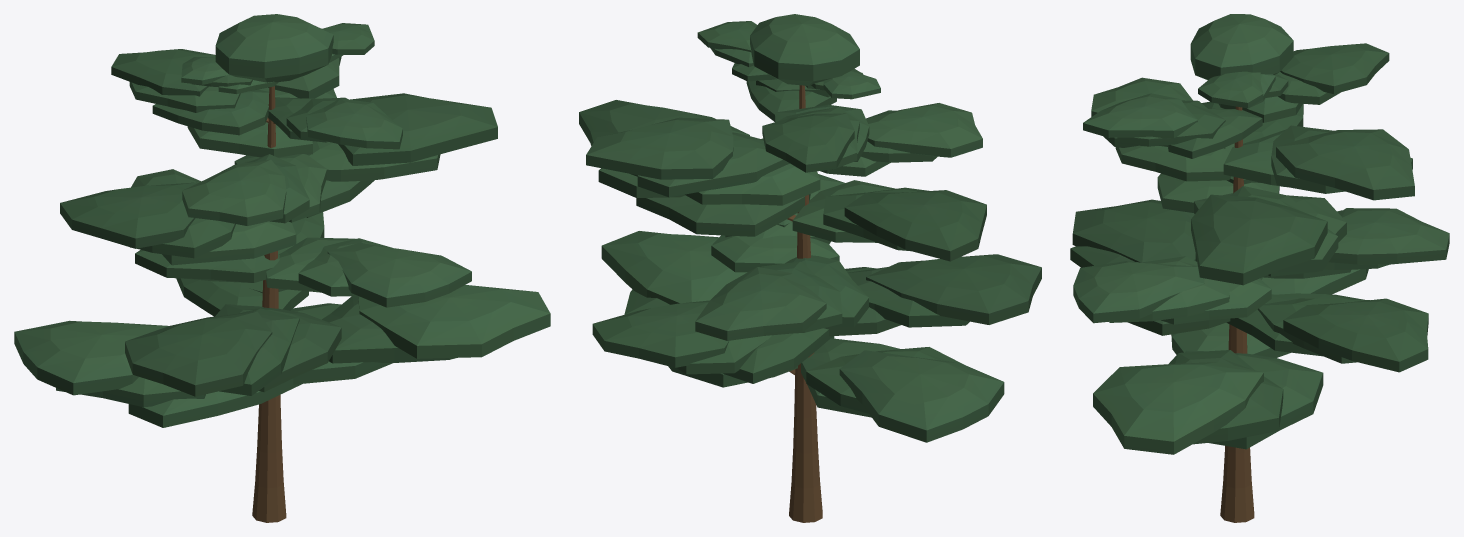
The model's file is l-pine.glb.
The picture shows the model from 3 angles, left to right: view 1: azimuth 30°, elevation 25°; view 2: azimuth 150°, elevation 25°; view 3: azimuth 270°, elevation 25°; orthographic projection.
Visible parts, largest first — view 1: LowPolyConiferCanopy, LowPolyConiferWood; view 2: LowPolyConiferCanopy, LowPolyConiferWood; view 3: LowPolyConiferCanopy, LowPolyConiferWood.
Boxes of the visible parts, <box> form: LowPolyConiferCanopy: <box>14,14,550,427</box>; LowPolyConiferWood: <box>252,86,286,522</box>; LowPolyConiferCanopy: <box>579,14,1041,442</box>; LowPolyConiferWood: <box>787,85,822,522</box>; LowPolyConiferCanopy: <box>1070,14,1449,454</box>; LowPolyConiferWood: <box>1220,106,1254,522</box>.
Bounding box in the file's own units: 2.31 × 2.45 × 1.71.
